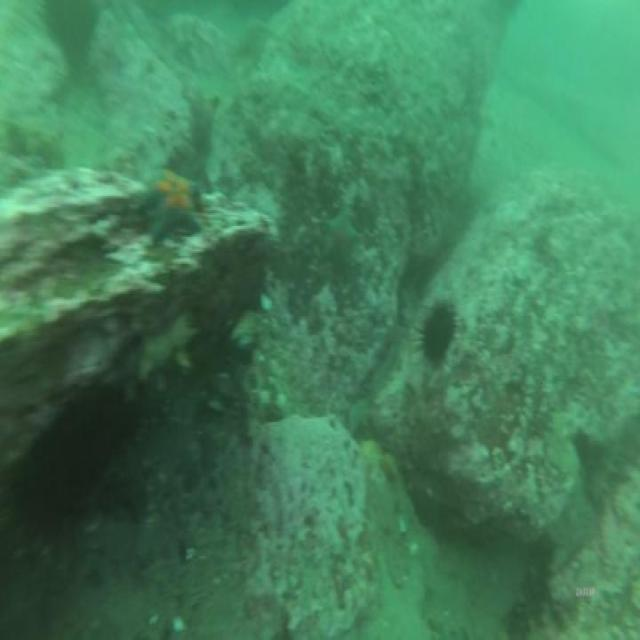echinus: (25, 446, 86, 534), (46, 0, 96, 51), (420, 307, 454, 360)
starfish: (146, 168, 199, 238), (323, 210, 358, 270)
